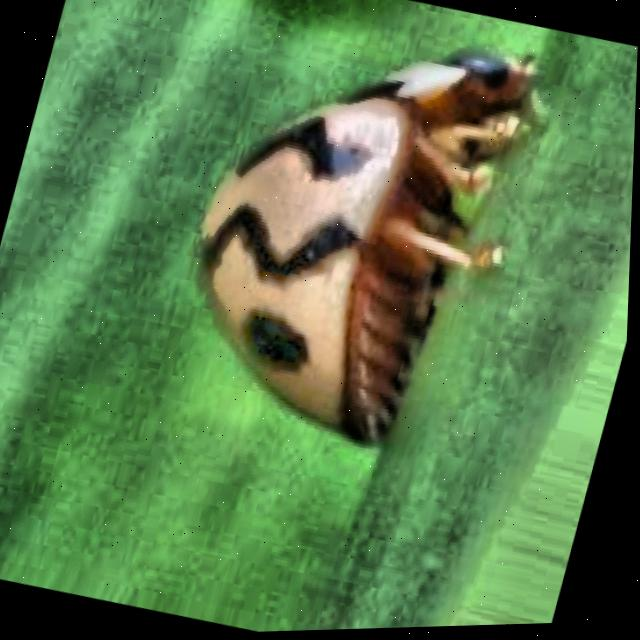Asian-Lady-beetle: (91, 0, 586, 575)
